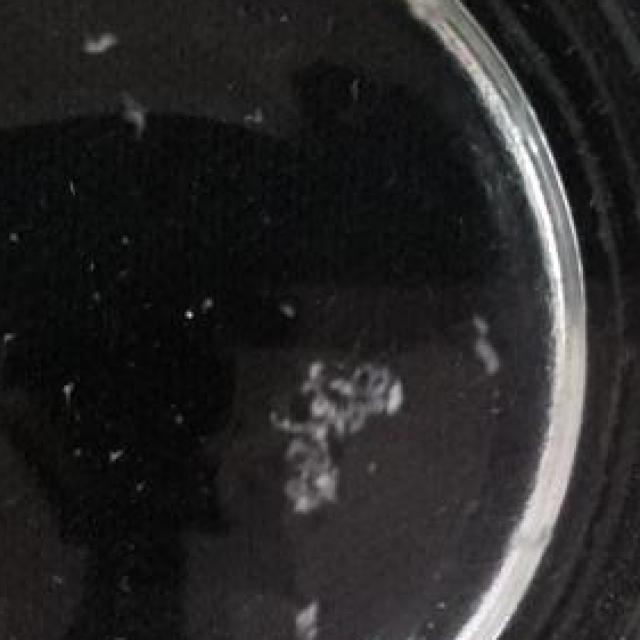Microplastic: (264, 333, 408, 535), (464, 293, 528, 390), (105, 78, 173, 140), (66, 12, 137, 69), (280, 583, 340, 640), (102, 623, 136, 640)
